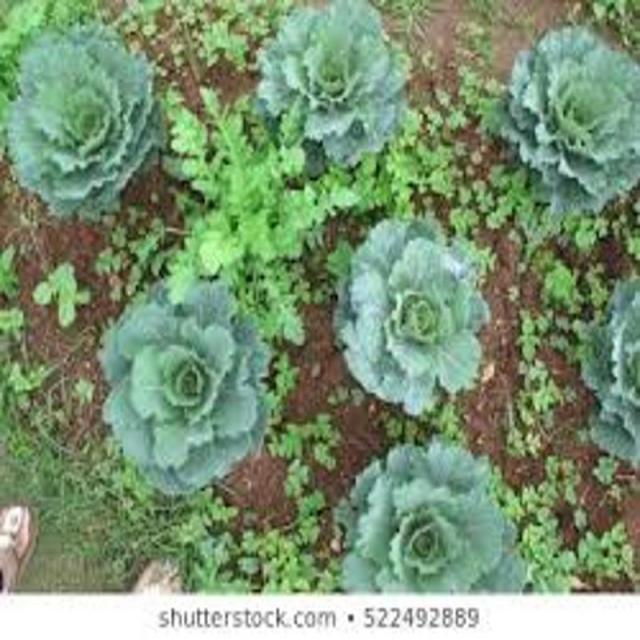Lettuce: (93, 277, 265, 495), (5, 20, 162, 223), (333, 438, 530, 597), (345, 208, 490, 417), (496, 18, 640, 218), (256, 0, 409, 171), (576, 273, 640, 476)
